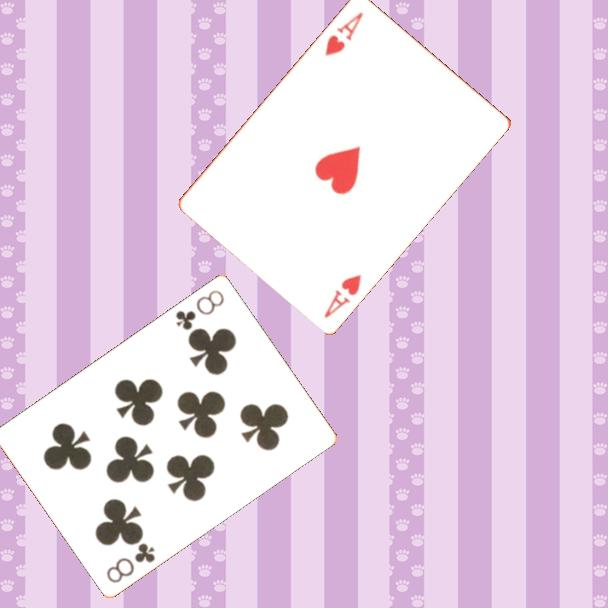c08: (172, 286, 227, 333), (103, 539, 158, 586)
h01: (321, 8, 366, 59), (320, 270, 365, 321)
